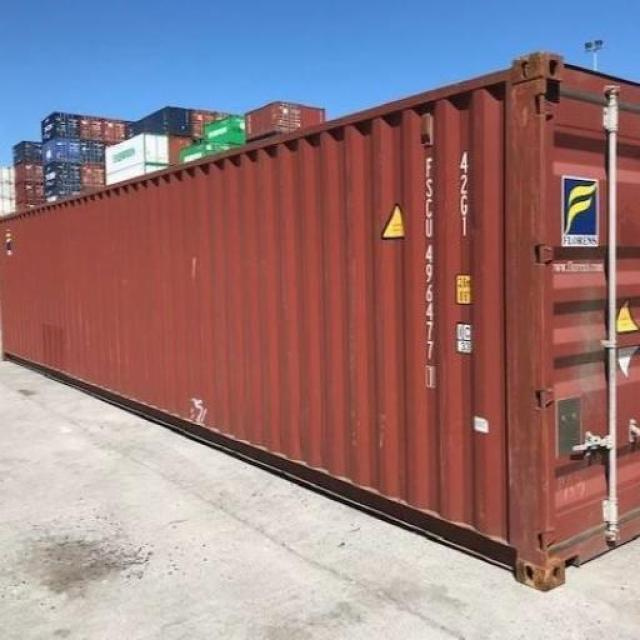ISO: (450, 149, 470, 240)
container_number: (416, 149, 440, 392)
